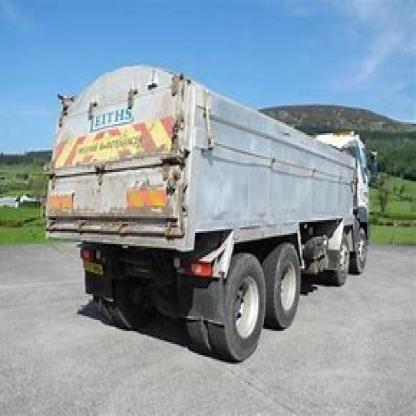dump_truck: (40, 48, 386, 364)
